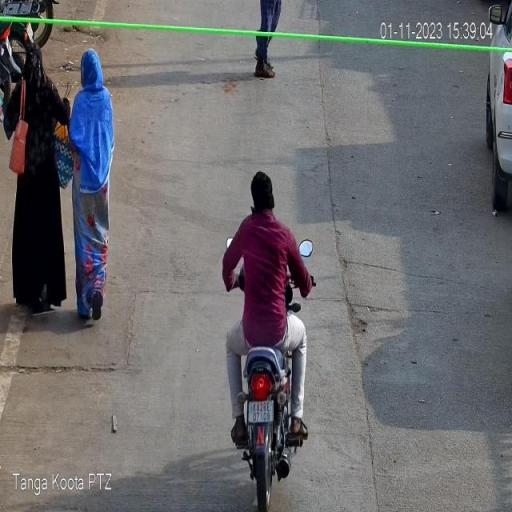using mobile: (248, 198, 262, 218)
